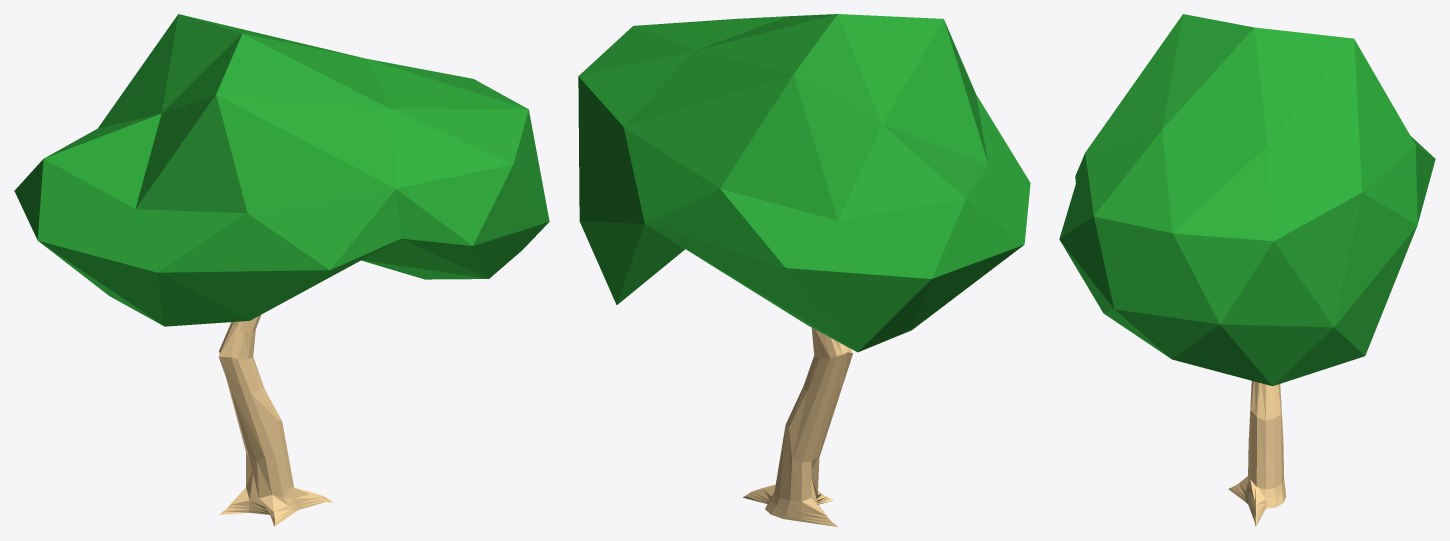
File: tree_09.FBX
3 renders of one model, left to right at view 1: azimuth 30°, elevation 25°; view 2: azimuth 150°, elevation 25°; view 3: azimuth 270°, elevation 25°, orthographic. The views are drawn at different scales.
Visible parts, largest first — view 1: tree_09; view 2: tree_09; view 3: tree_09.
Part boxes in pixels (box(x1,y1,x2,y2)): tree_09: box(14, 14, 549, 526); tree_09: box(578, 14, 1030, 526); tree_09: box(1059, 14, 1435, 526).
Bounding box in the file's own units: 9.15 × 9.38 × 6.99.
Materials: 1 (1 with a texture image).
